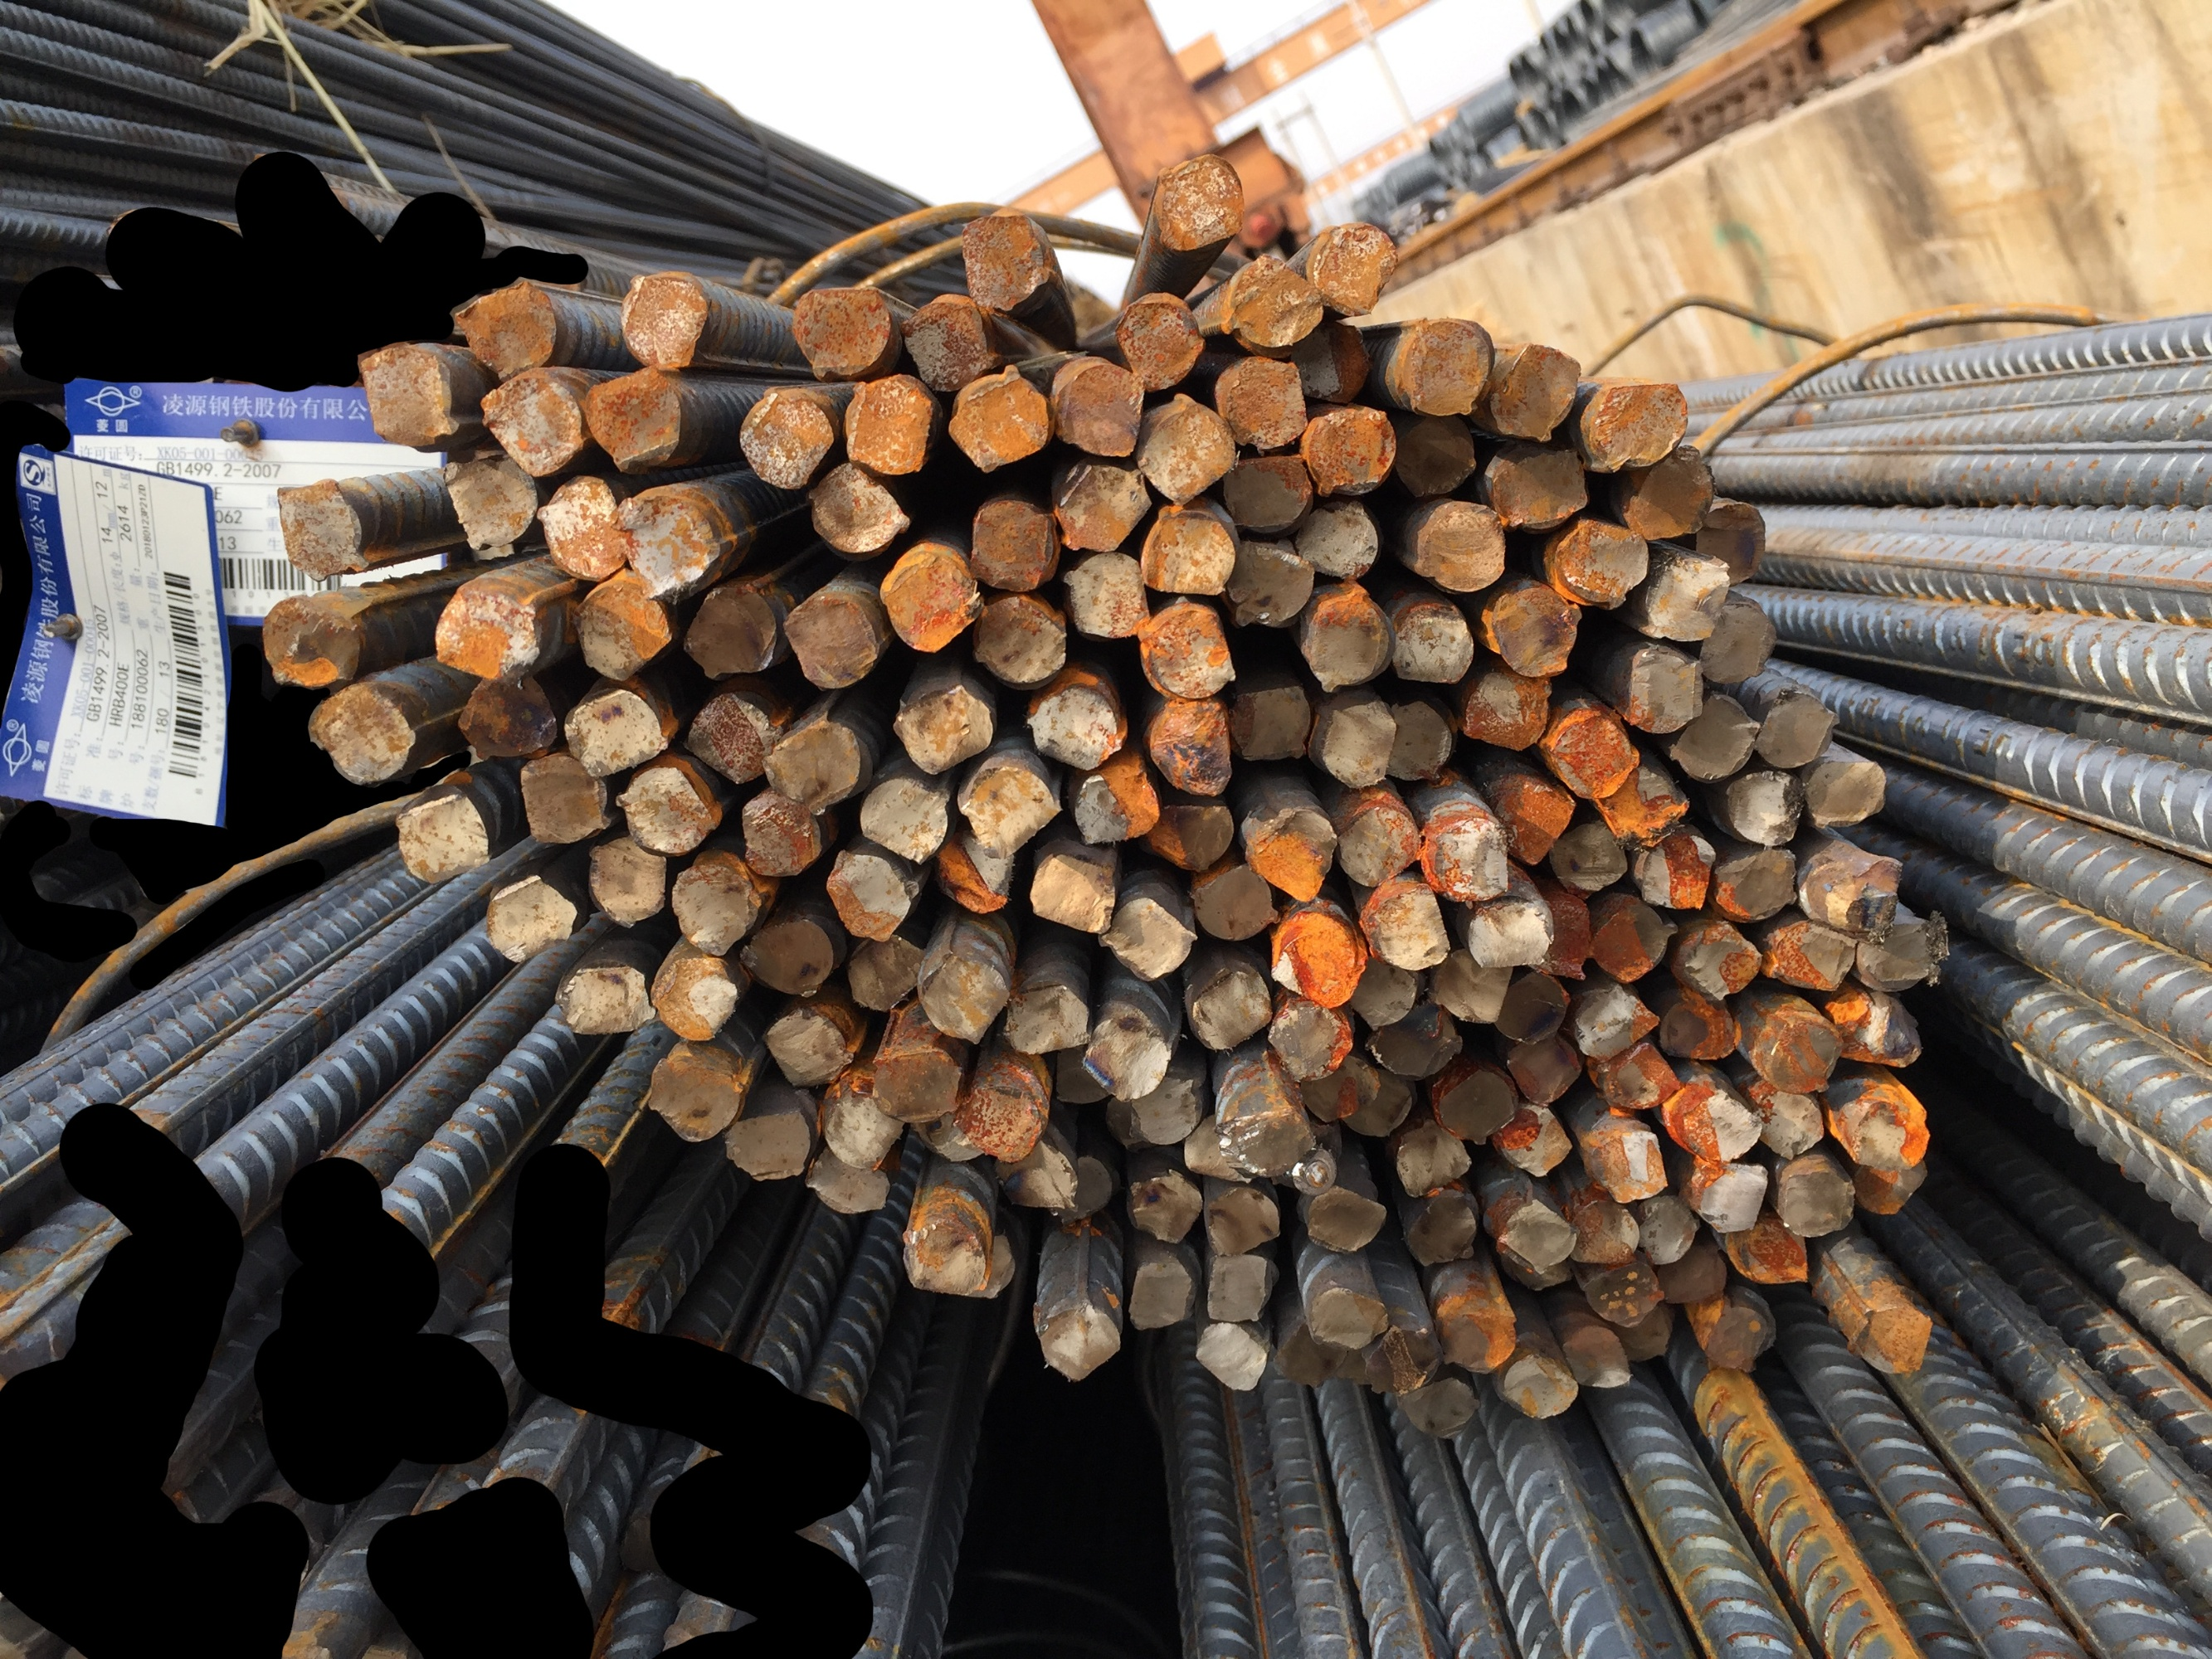rebar: (603, 488, 722, 606), (469, 362, 587, 479), (870, 547, 988, 655), (565, 572, 676, 685), (431, 575, 549, 681), (296, 687, 422, 786), (945, 362, 1056, 474), (450, 268, 558, 382), (1133, 392, 1238, 509), (577, 357, 683, 469), (432, 450, 540, 558), (788, 279, 896, 385), (444, 666, 561, 762), (777, 589, 882, 695), (270, 476, 371, 586), (383, 784, 493, 885), (253, 594, 366, 692), (758, 713, 863, 817), (1388, 317, 1492, 422), (805, 458, 912, 561), (734, 385, 835, 493), (561, 683, 673, 781), (512, 749, 624, 847), (614, 268, 716, 373), (1482, 444, 1600, 535), (671, 580, 779, 680), (908, 948, 1016, 1047), (1271, 903, 1370, 1011), (1612, 441, 1720, 540), (1797, 847, 1909, 943), (1293, 580, 1388, 694), (896, 295, 999, 397), (1415, 805, 1515, 911), (1347, 875, 1455, 972), (1543, 516, 1651, 613), (535, 474, 629, 586), (967, 592, 1072, 692), (1485, 342, 1584, 446), (1142, 687, 1236, 796), (680, 683, 781, 784), (892, 680, 994, 781), (952, 211, 1053, 312), (359, 347, 458, 450), (814, 842, 913, 945), (1138, 603, 1238, 704), (1225, 251, 1325, 352), (1407, 498, 1508, 598), (615, 763, 718, 861), (1473, 772, 1576, 870), (960, 762, 1065, 857), (1152, 150, 1246, 256), (640, 1054, 748, 1147), (1584, 380, 1694, 471), (1109, 293, 1208, 392), (1211, 352, 1311, 451), (1300, 397, 1400, 497), (845, 373, 940, 477), (1051, 457, 1150, 554), (1307, 216, 1400, 321), (1021, 683, 1130, 772), (1743, 1000, 1842, 1096), (1382, 404, 1482, 500), (1382, 596, 1482, 692), (481, 870, 579, 965), (1243, 807, 1339, 904), (1051, 361, 1147, 458), (1632, 551, 1729, 647), (736, 911, 837, 1004), (1485, 587, 1586, 678), (668, 857, 755, 962), (962, 502, 1056, 598), (1058, 547, 1152, 643), (1548, 709, 1644, 803), (1075, 1011, 1173, 1103), (1140, 505, 1238, 598), (1663, 694, 1762, 784), (734, 789, 828, 884), (1220, 538, 1314, 633), (648, 955, 744, 1047), (1593, 762, 1693, 850), (1095, 896, 1196, 983), (1663, 1084, 1769, 1166), (760, 1000, 856, 1091), (553, 962, 661, 1040), (586, 831, 669, 932), (1333, 798, 1424, 890), (1618, 645, 1708, 737), (950, 1077, 1044, 1166), (854, 777, 948, 866), (868, 1040, 964, 1127), (1567, 976, 1663, 1063), (1455, 671, 1553, 756), (1215, 450, 1314, 533), (1292, 314, 1379, 408), (1757, 917, 1856, 999), (1264, 992, 1354, 1080), (1431, 1288, 1522, 1377), (816, 1086, 910, 1171), (1210, 1107, 1320, 1180), (1288, 497, 1382, 582), (1715, 767, 1811, 850), (840, 925, 929, 1014), (1426, 938, 1515, 1026), (898, 1215, 994, 1297), (1185, 857, 1281, 939), (1687, 493, 1769, 589), (1320, 695, 1400, 793), (720, 1108, 819, 1187), (1034, 1298, 1124, 1384), (1222, 683, 1313, 769), (1693, 598, 1778, 688), (988, 1134, 1082, 1216), (1748, 687, 1844, 767), (1851, 917, 1949, 995), (1706, 847, 1804, 925), (927, 829, 1016, 915), (1072, 763, 1163, 847), (1677, 918, 1762, 1006), (1030, 854, 1119, 938), (1633, 826, 1717, 915), (1494, 1195, 1586, 1276), (1140, 795, 1234, 873), (1367, 1009, 1469, 1080), (1189, 969, 1274, 1054), (1429, 1065, 1518, 1147), (1832, 992, 1923, 1072), (1844, 1096, 1937, 1175), (997, 981, 1091, 1058), (1382, 694, 1457, 789), (1717, 1215, 1815, 1288), (1591, 903, 1679, 985), (1797, 756, 1891, 831), (805, 1140, 894, 1218), (1656, 986, 1740, 1068), (1198, 1180, 1285, 1258), (1489, 1103, 1576, 1182), (1464, 901, 1562, 971), (1544, 819, 1628, 899), (1560, 1192, 1645, 1270), (1391, 1121, 1475, 1199), (1300, 1284, 1396, 1352), (1529, 889, 1597, 985), (1196, 1249, 1276, 1330), (1400, 1190, 1480, 1270), (1121, 1169, 1203, 1248), (1492, 971, 1574, 1049), (1849, 1298, 1933, 1375), (1588, 1129, 1672, 1206), (1304, 1187, 1389, 1262), (1361, 1326, 1449, 1399), (1595, 1044, 1684, 1115), (1344, 950, 1422, 1028), (1748, 1086, 1829, 1162), (1774, 1166, 1858, 1239), (1578, 1263, 1670, 1330), (1686, 1159, 1766, 1234), (1194, 1319, 1271, 1396), (1504, 1035, 1586, 1107), (1703, 1298, 1776, 1377), (1288, 1054, 1377, 1119), (1124, 1255, 1198, 1331), (1503, 1351, 1581, 1422), (1853, 1148, 1933, 1218), (1124, 1070, 1199, 1143), (1628, 1192, 1700, 1269), (1394, 1377, 1485, 1436), (1346, 1066, 1417, 1141), (1560, 1321, 1635, 1392), (1271, 1319, 1347, 1389), (1651, 1244, 1729, 1310), (1180, 1115, 1252, 1187), (1274, 1124, 1351, 1188), (910, 1107, 988, 1166), (1053, 1154, 1112, 1227), (1497, 1241, 1578, 1293), (959, 1232, 1020, 1300), (1611, 1307, 1680, 1364), (1046, 1044, 1109, 1107), (1098, 1089, 1152, 1152), (1340, 1338, 1388, 1396)
